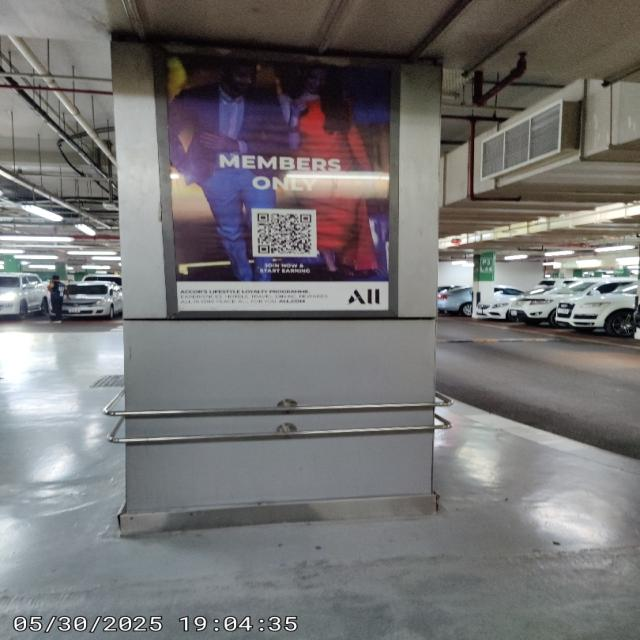poster: (158, 38, 399, 319)
